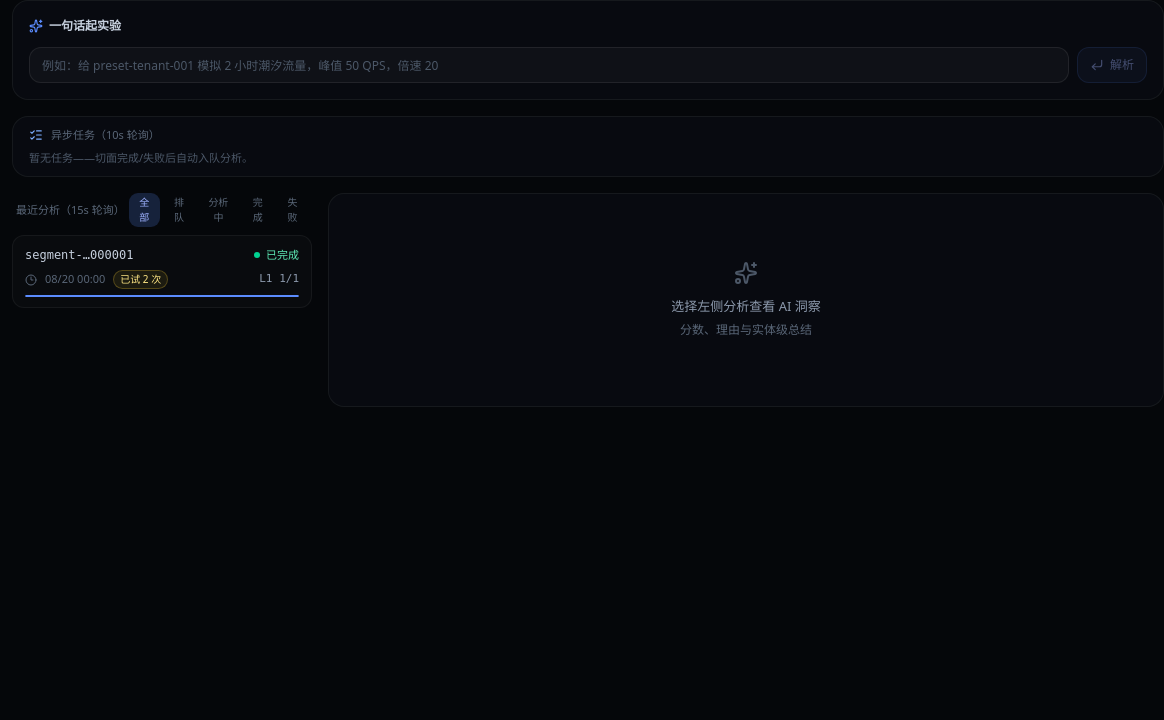
Scenario: AiInsightPanel › 渲染已完成分析的状态徽章、总分与实体总结
The width and height of the screenshot is (1164, 720).
Click the text "segment-…000001" at (79, 255), box [25,246,133,264]
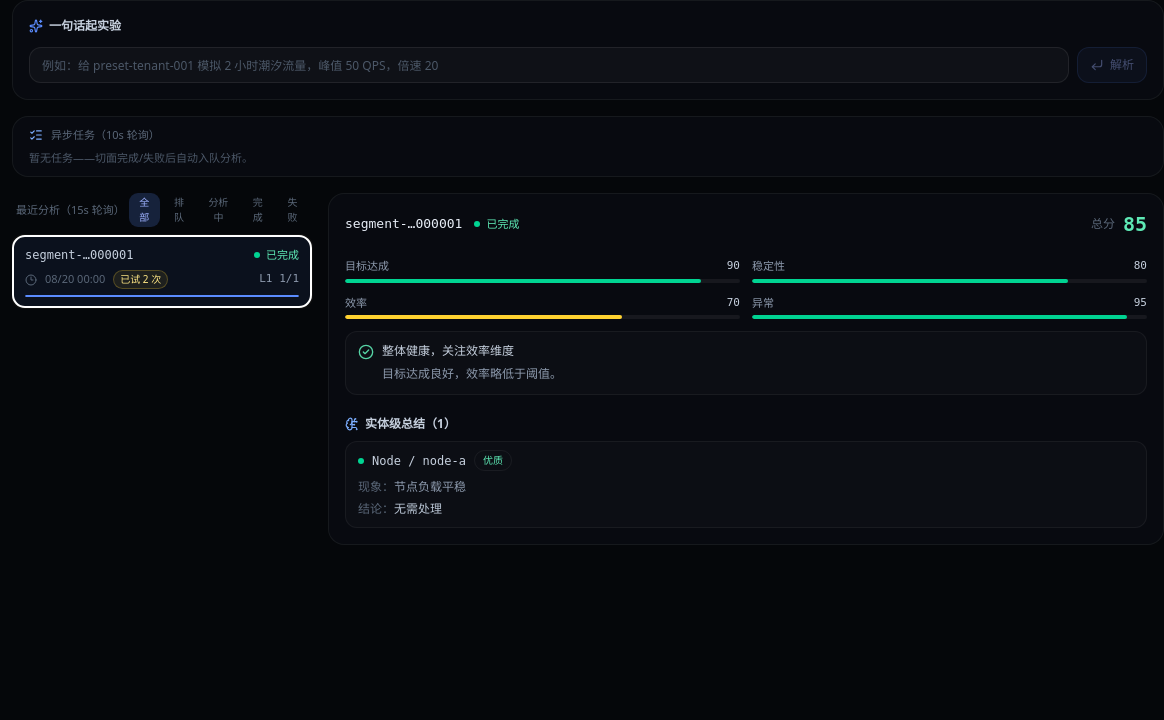
Check: the text "总分" is shown, box [1091,215,1115,233]
Check: the text "85" is shown, box [1123,210,1147,238]
Check: the text "目标达成" is shown, box [345,258,389,274]
